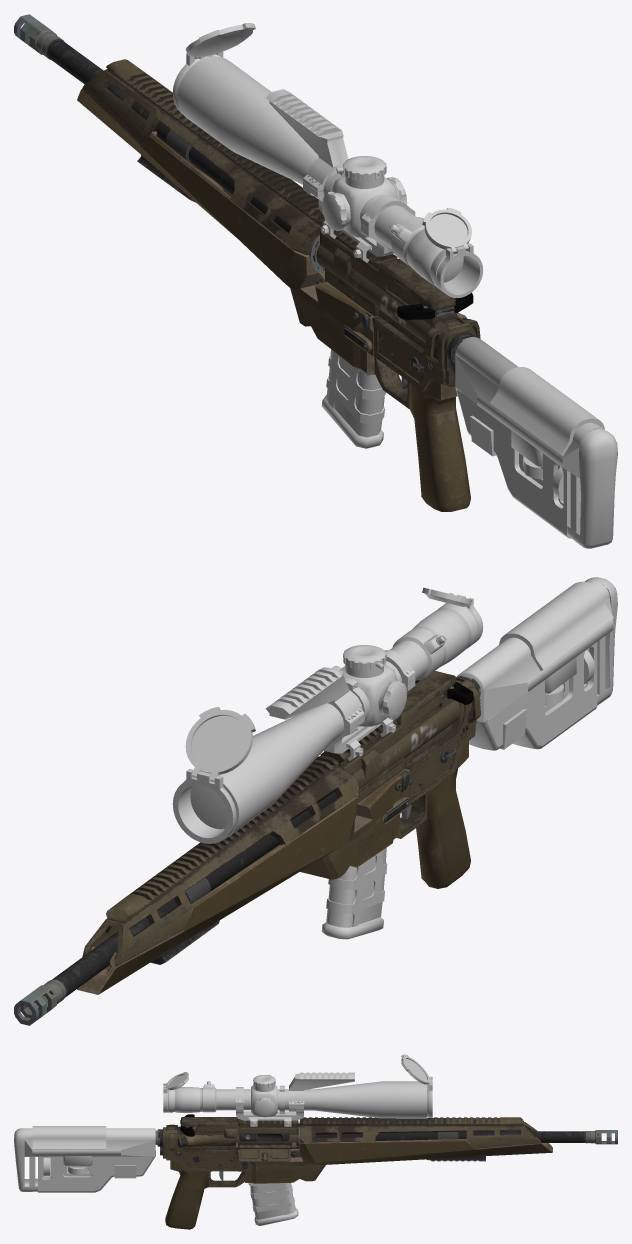
File: Sniper_Rifle_merge.fbx
3 views of the same model, one above another, from view 1: azimuth 30°, elevation 25°; view 2: azimuth 150°, elevation 25°; view 3: azimuth 270°, elevation 25° (orthographic). The views are drawn at different scales.
Parts seen in each view (by area): view 1: Cube.045; view 2: Cube.045; view 3: Cube.045.
Part boxes in pixels (left/top/right/bottom): Cube.045: left=14, top=14, right=617, bottom=548; Cube.045: left=14, top=577, right=617, bottom=1025; Cube.045: left=14, top=1054, right=617, bottom=1229.
Size of the model in its own units: 1697 by 123 by 525.
